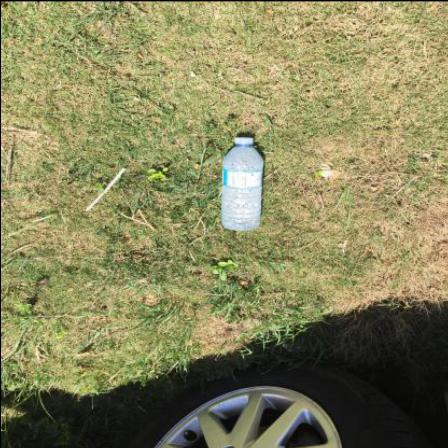Bottle: (222, 137, 264, 231)
Bottle cap: (235, 138, 253, 144)
Cigarette: (81, 353, 91, 357)
Straw: (85, 167, 126, 211)
